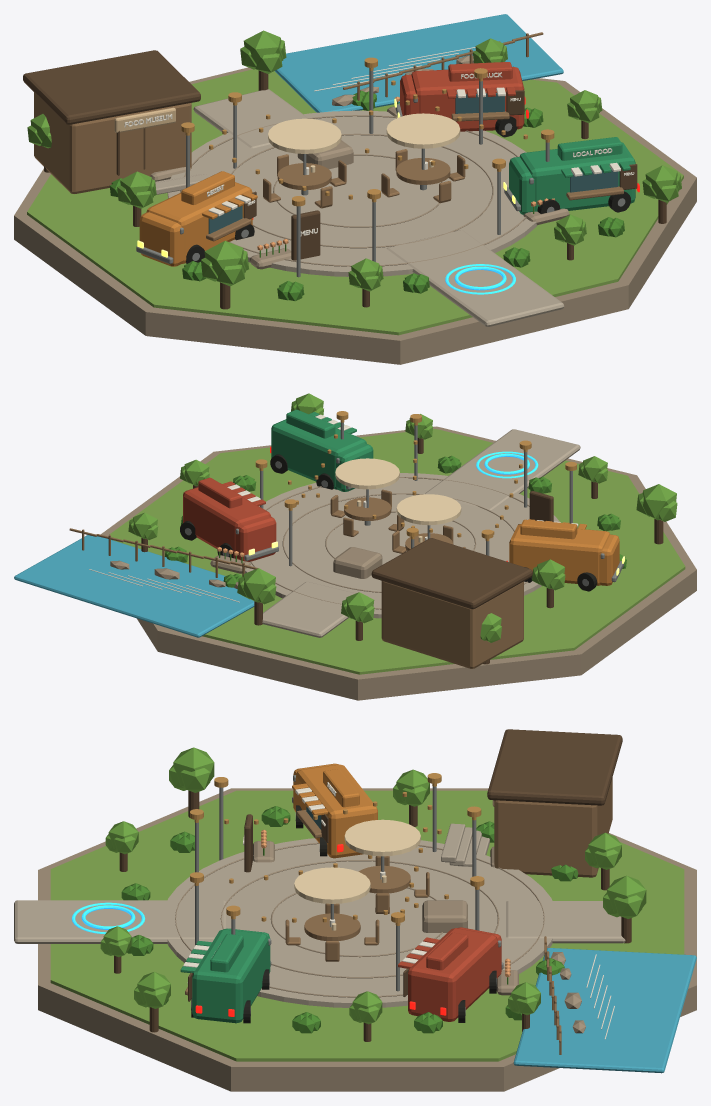
File: food-experience-map.glb
The picture shows the model from 3 angles, top to bottom: view 1: azimuth 30°, elevation 25°; view 2: azimuth 150°, elevation 25°; view 3: azimuth 270°, elevation 25°; orthographic projection. The views are drawn at different scales.
Visible parts, largest first — view 1: Grass island, Central plaza, Map island, Lake, Cafe building, Cafe roof, South walkway, North walkway, Local food truck, Street food truck, Dessert truck, Parasol.001 (+20 smaller); view 2: Grass island, Map island, Central plaza, Lake, Cafe building, Cafe roof, South walkway, Dessert truck, North walkway, Local food truck, Street food truck, Parasol (+15 smaller); view 3: Grass island, Central plaza, Map island, Lake, Cafe roof, South walkway, Cafe building, Street food truck, Local food truck, North walkway, Dessert truck, Parasol.001 (+16 smaller).
Boxes of the visible parts, x1,y1,x2,y2 form: Grass island: [27, 69, 683, 335]; Central plaza: [167, 110, 536, 276]; Map island: [14, 67, 696, 364]; Lake: [275, 14, 563, 112]; Cafe building: [34, 92, 191, 193]; Cafe roof: [23, 50, 200, 124]; South walkway: [386, 230, 564, 326]; North walkway: [193, 89, 307, 148]; Local food truck: [519, 142, 635, 211]; Street food truck: [411, 66, 524, 131]; Dessert truck: [146, 182, 252, 263]; Parasol.001: [386, 113, 460, 148]; Grass island: [109, 428, 685, 674]; Map island: [101, 426, 696, 700]; Central plaza: [245, 473, 559, 618]; Lake: [14, 535, 254, 637]; Cafe building: [381, 581, 523, 668]; Cafe roof: [371, 538, 532, 609]; South walkway: [425, 429, 580, 509]; Dessert truck: [509, 524, 610, 585]; North walkway: [262, 581, 369, 637]; Local food truck: [271, 419, 366, 489]; Street food truck: [183, 487, 271, 558]; Parasol: [396, 494, 461, 525]; Grass island: [50, 790, 684, 1061]; Central plaza: [167, 838, 552, 1007]; Map island: [38, 788, 696, 1091]; Lake: [513, 948, 696, 1073]; Cafe roof: [487, 729, 622, 805]; South walkway: [14, 900, 225, 943]; Cafe building: [494, 777, 612, 877]; Street food truck: [408, 928, 497, 1021]; Local food truck: [192, 929, 268, 1023]; North walkway: [506, 901, 625, 943]; Dessert truck: [296, 764, 377, 858]; Parasol.001: [294, 867, 370, 903].
Size of the model in its own units: 22.37 by 4.07 by 22.41.
